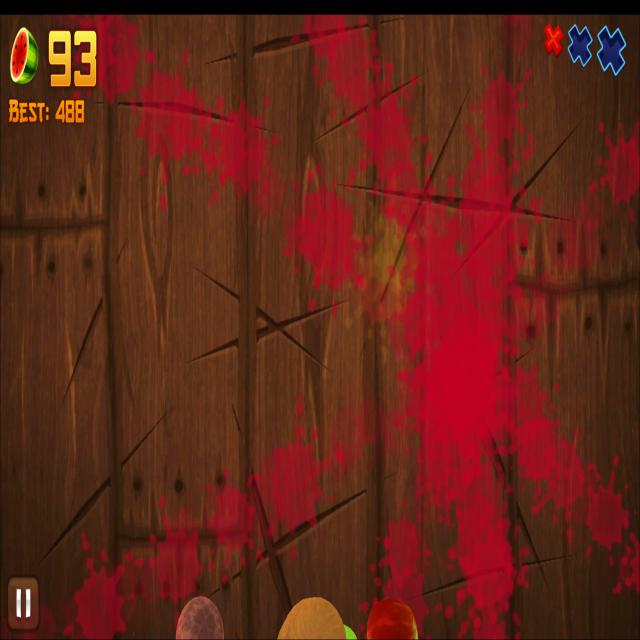fruit: (276, 596, 347, 640), (175, 594, 226, 640), (367, 598, 418, 640), (344, 625, 358, 640)
